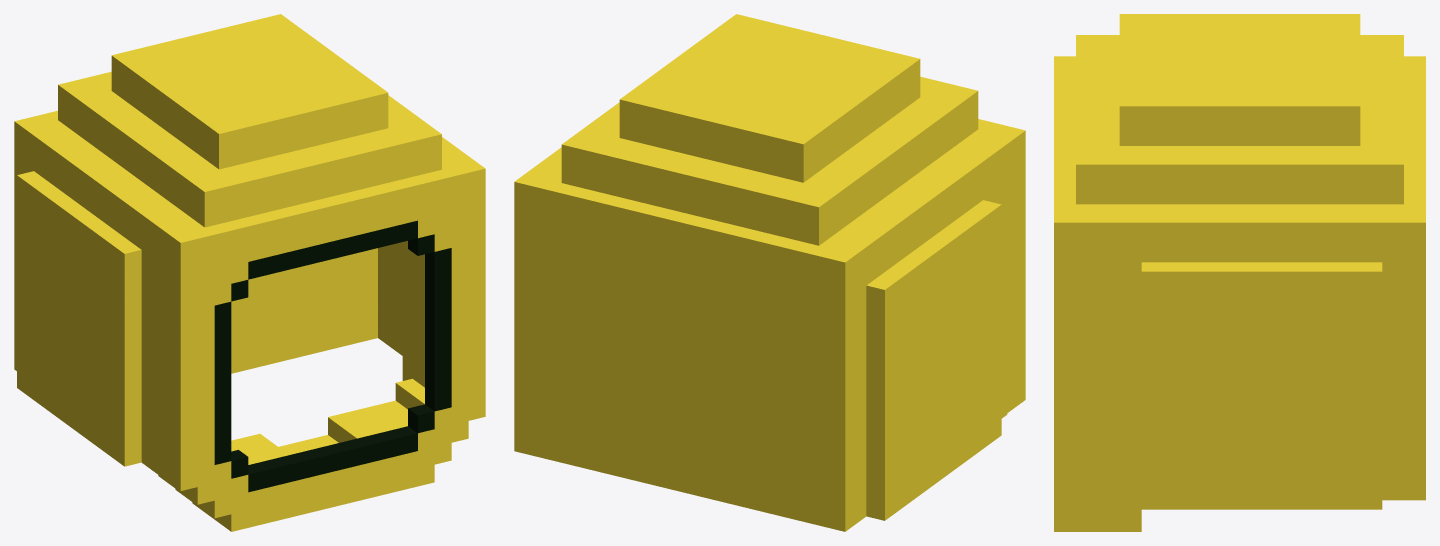
3 views of the same model, side by side, from view 1: azimuth 30°, elevation 25°; view 2: azimuth 150°, elevation 25°; view 3: azimuth 270°, elevation 25° (orthographic). The views are drawn at different scales.
Visible parts, largest first — view 1: 111; view 2: 111; view 3: 111.
Part boxes in pixels (x1,y1,x2,y2): 111: (14, 14, 485, 531); 111: (514, 14, 1025, 531); 111: (1054, 14, 1425, 531).
Bounding box in the file's own units: 200 × 210 × 170.
Materials: 1 (1 with a texture image).
